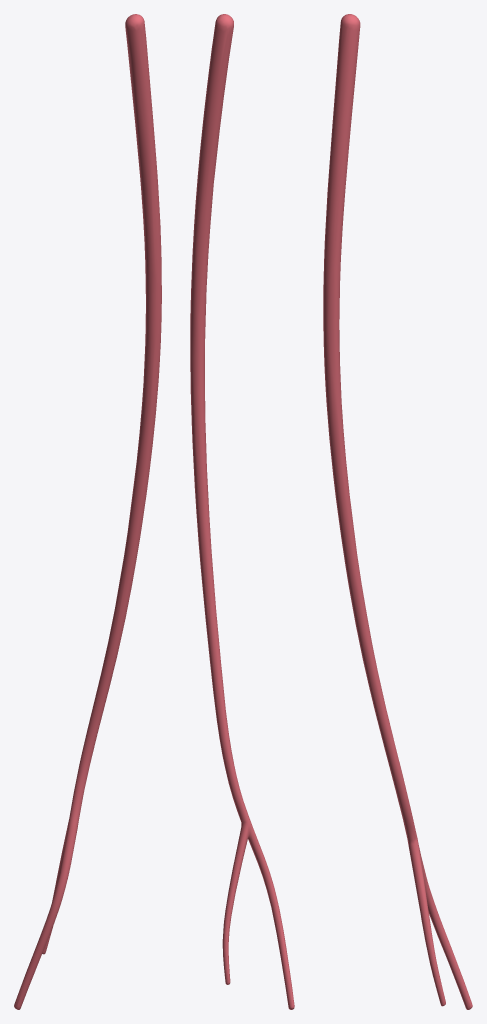
File: fma3988_fj1936.glb
The picture shows the model from 3 angles, left to right: view 1: azimuth 90°, elevation 25°; view 2: azimuth 210°, elevation 25°; view 3: azimuth 270°, elevation 25°; orthographic projection. The views are drawn at different scales.
Parts seen in each view (by area): view 1: FMA3988_FJ1936; view 2: FMA3988_FJ1936; view 3: FMA3988_FJ1936.
Boxes of the visible parts, x1,y1,x2,y2 form: FMA3988_FJ1936: (14, 14, 161, 1009); FMA3988_FJ1936: (190, 14, 294, 1009); FMA3988_FJ1936: (323, 14, 472, 1009).
Bounding box in the file's own units: 0.0105 × 0.1663 × 0.0225.
